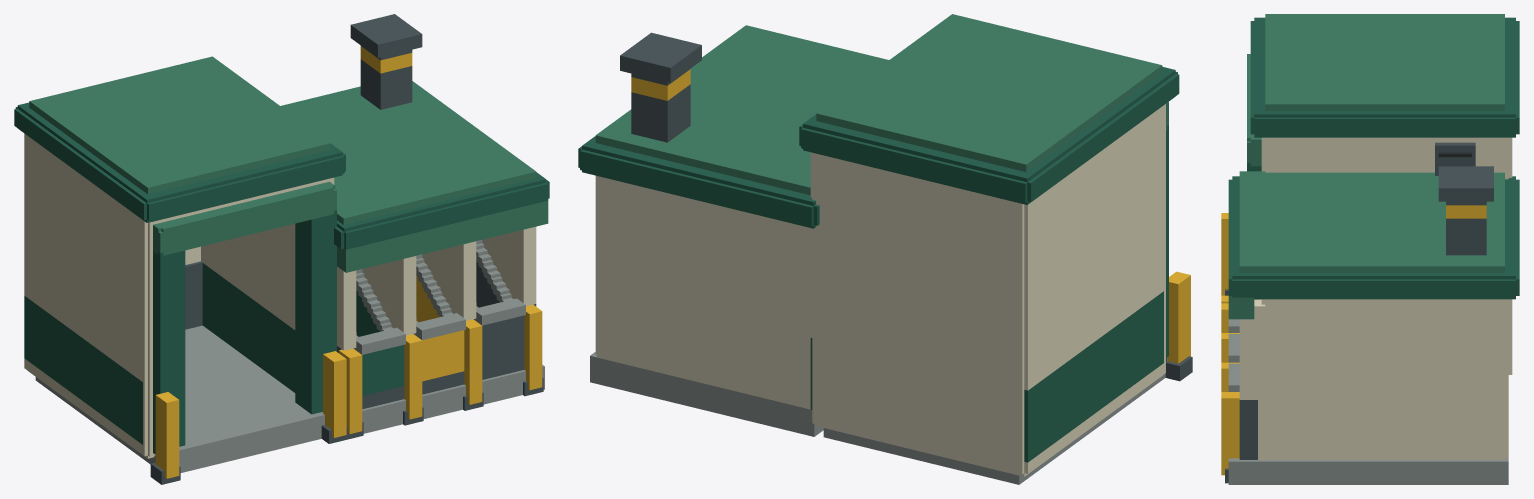
Rendered from recycling_center.glb.
3 renders of one model, left to right at view 1: azimuth 30°, elevation 25°; view 2: azimuth 150°, elevation 25°; view 3: azimuth 270°, elevation 25°, orthographic. The views are drawn at different scales.
Visible parts, largest first — view 1: recycling_center; view 2: recycling_center; view 3: recycling_center.
Boxes of the visible parts, left/top/right/bottom form: recycling_center: left=14, top=14, right=549, bottom=484; recycling_center: left=578, top=14, right=1192, bottom=484; recycling_center: left=1221, top=14, right=1519, bottom=484.
Bounding box in the file's own units: 9.38 × 6.45 × 6.08.
